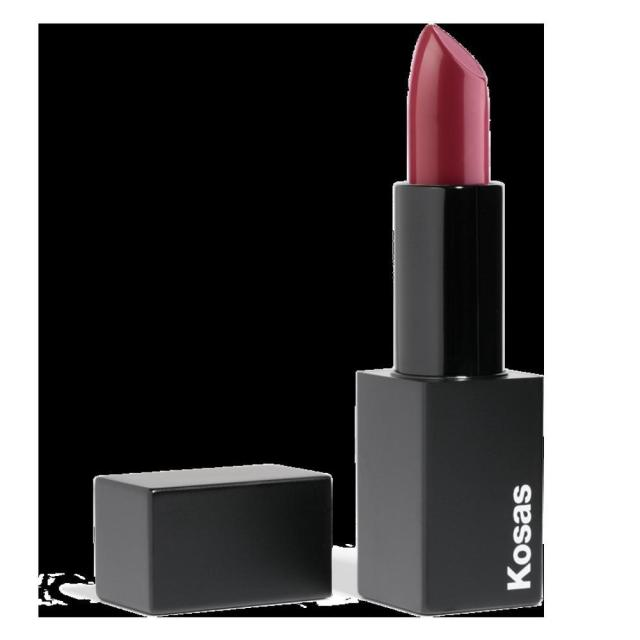lipstick: (56, 26, 561, 624)
